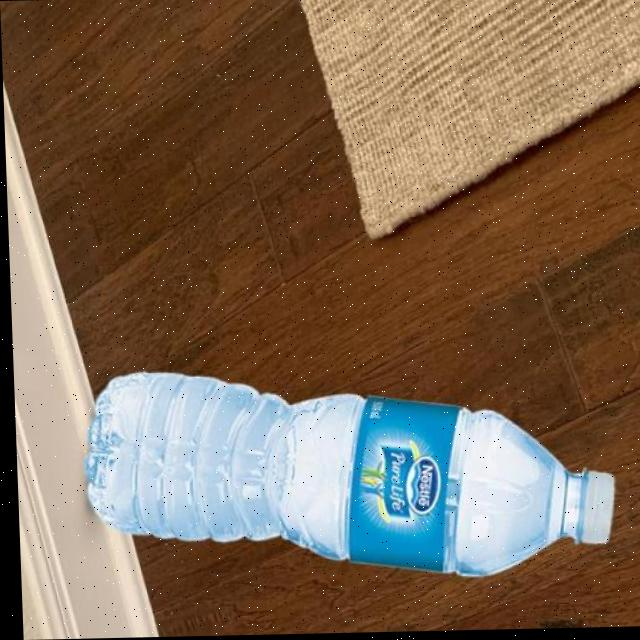bottle: (76, 362, 613, 587)
